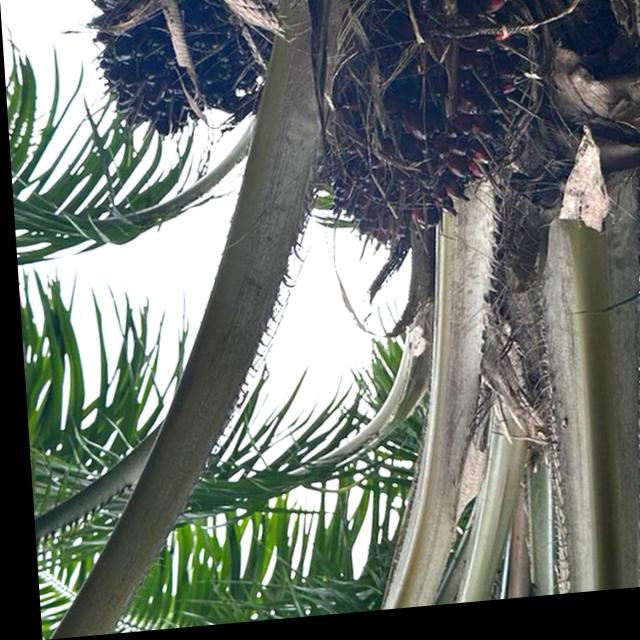ripe: (287, 0, 557, 293)
